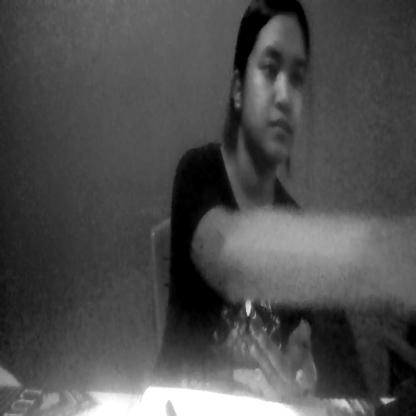Distracted: (237, 3, 314, 160)
